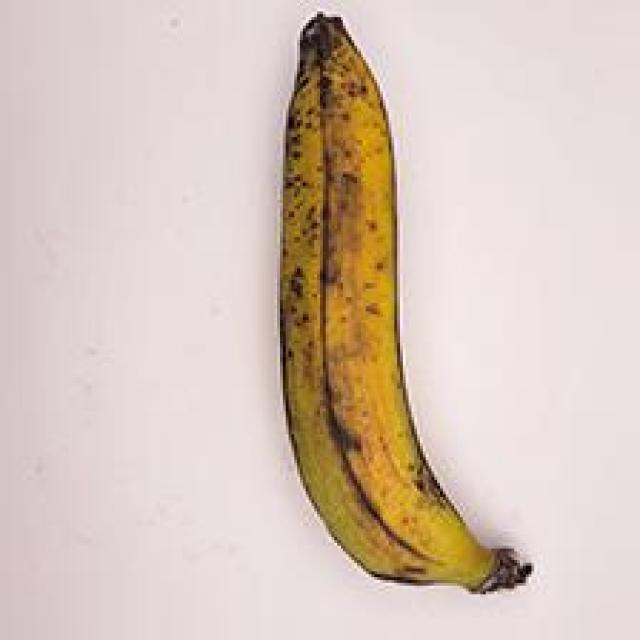Overripe: (205, 0, 560, 620)
